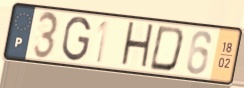1: (96, 20, 110, 64)
3: (31, 9, 60, 62)
6: (185, 29, 213, 76)
D: (147, 24, 186, 74)
G: (60, 15, 93, 63)
H: (119, 20, 156, 72)
